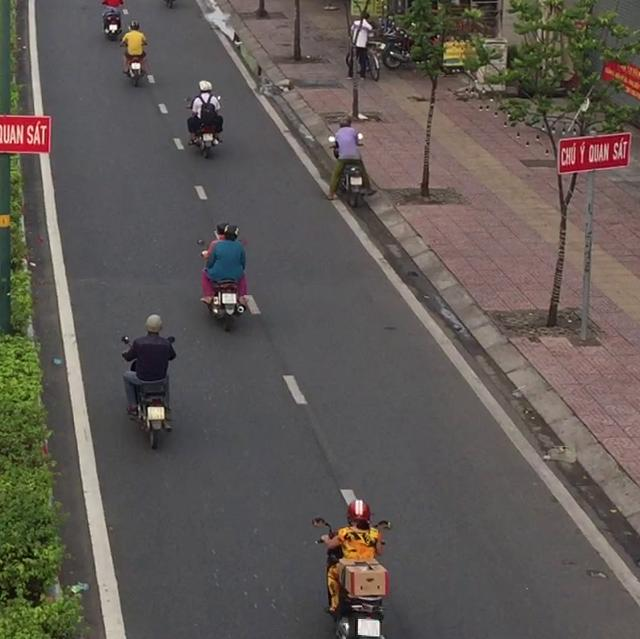Motorcycle: (311, 516, 392, 638), (120, 334, 176, 449), (196, 236, 247, 332), (327, 132, 376, 207), (183, 96, 223, 159), (119, 41, 147, 87), (99, 3, 125, 40)
